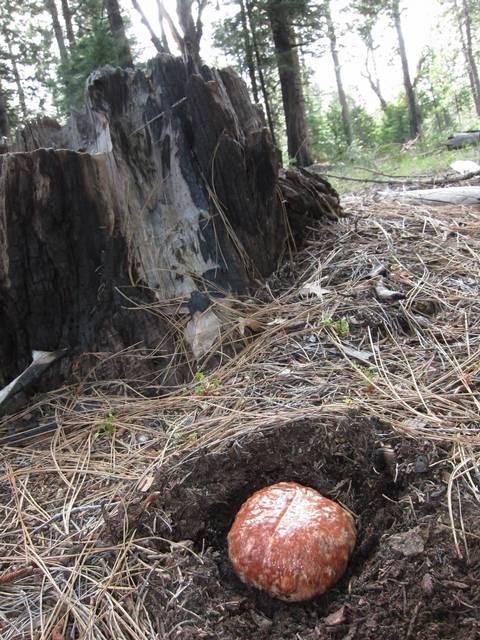Edible Mushroom: (225, 480, 357, 603)
